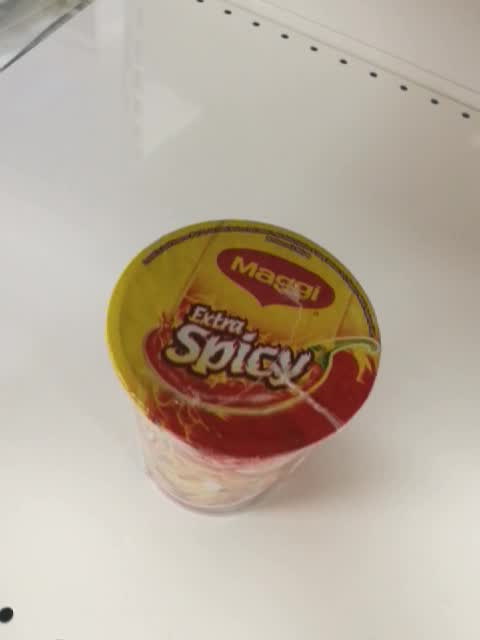maggi: (104, 216, 383, 519)
